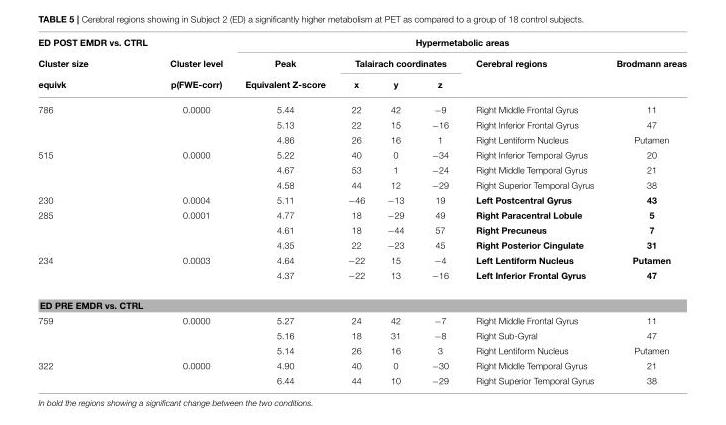table: (37, 37, 686, 385)
table column: (461, 37, 604, 385), (37, 37, 158, 385), (233, 37, 336, 385), (604, 37, 686, 385), (158, 37, 233, 385), (417, 37, 461, 385), (375, 37, 417, 385), (336, 37, 375, 385)
table column header: (37, 37, 686, 97)
table projected row header: (37, 290, 686, 313)
table row: (37, 73, 686, 97), (37, 267, 686, 290), (37, 290, 686, 313), (37, 52, 686, 73), (37, 97, 686, 117), (37, 37, 686, 52), (37, 117, 686, 132), (37, 132, 686, 147), (37, 147, 686, 162), (37, 162, 686, 177), (37, 177, 686, 192), (37, 192, 686, 207), (37, 207, 686, 222), (37, 222, 686, 237), (37, 237, 686, 252), (37, 252, 686, 267), (37, 313, 686, 328), (37, 328, 686, 343), (37, 343, 686, 358), (37, 358, 686, 373), (37, 373, 686, 385)
table spanning cell: (37, 37, 158, 97), (233, 37, 686, 52), (461, 52, 604, 97), (37, 97, 158, 147), (37, 147, 158, 192), (37, 207, 158, 252), (37, 313, 158, 358), (233, 52, 336, 97), (37, 252, 158, 290), (158, 37, 233, 97), (604, 52, 686, 97), (37, 358, 158, 385), (336, 52, 461, 73)
